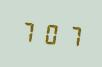seven: (61, 20, 81, 49), (18, 17, 38, 45)
zero: (40, 19, 60, 47)
